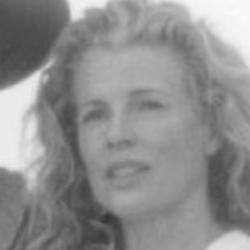face: (27, 2, 242, 236)
